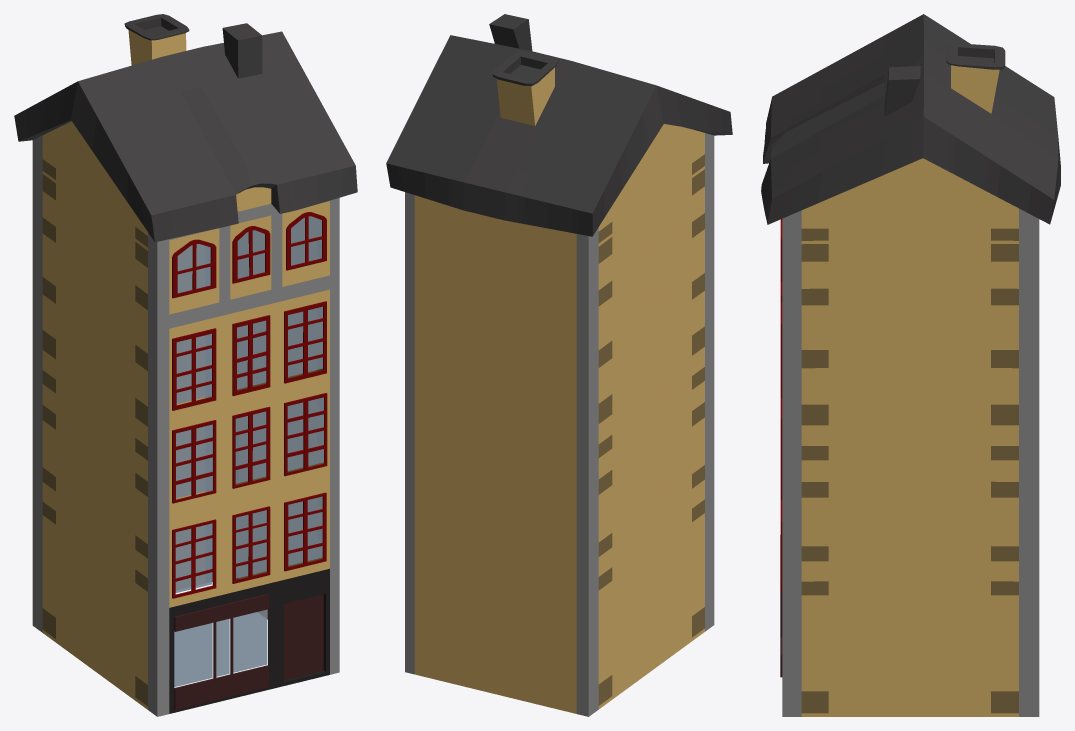
Rendered from Hus_1.fbx.
3 views of the same model, side by side, from view 1: azimuth 30°, elevation 25°; view 2: azimuth 150°, elevation 25°; view 3: azimuth 270°, elevation 25° (orthographic). The views are drawn at different scales.
Visible parts, largest first — view 1: pCube1; view 2: pCube1; view 3: pCube1.
Part boxes in pixels (x1,y1,x2,y2): pCube1: (14, 14, 357, 716); pCube1: (386, 14, 732, 716); pCube1: (761, 14, 1060, 716).
Bounding box in the file's own units: 113 × 300 × 130.
